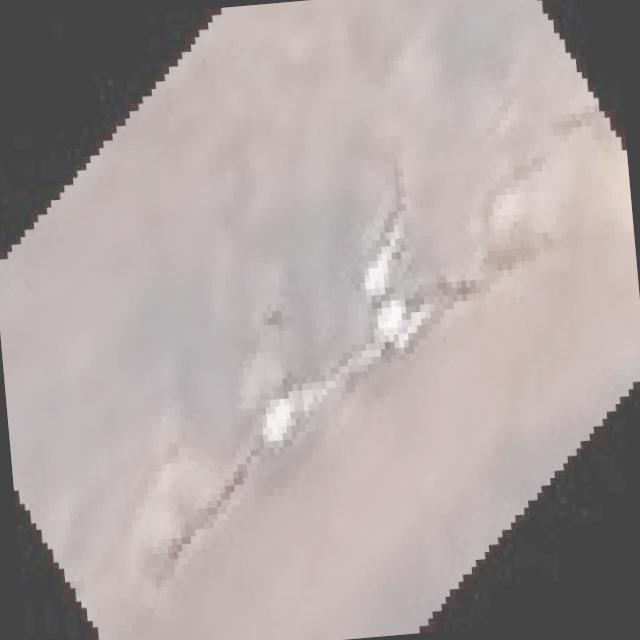crack: (138, 413, 290, 575)
